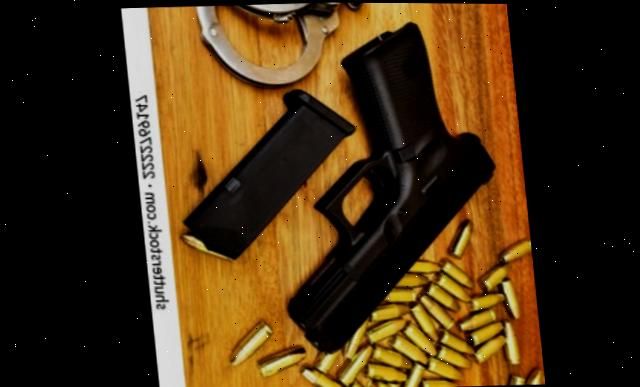pistol: (239, 5, 516, 359)
